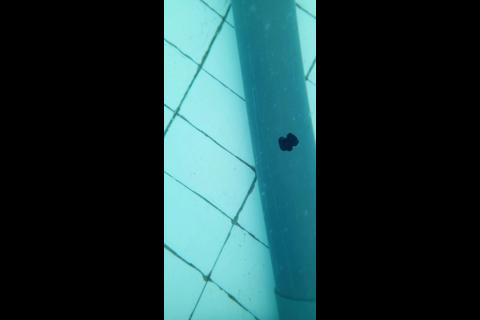kebocoran: (277, 131, 297, 152)
